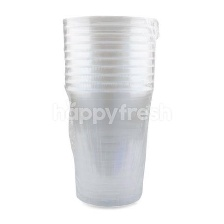glass: (56, 13, 163, 211)
